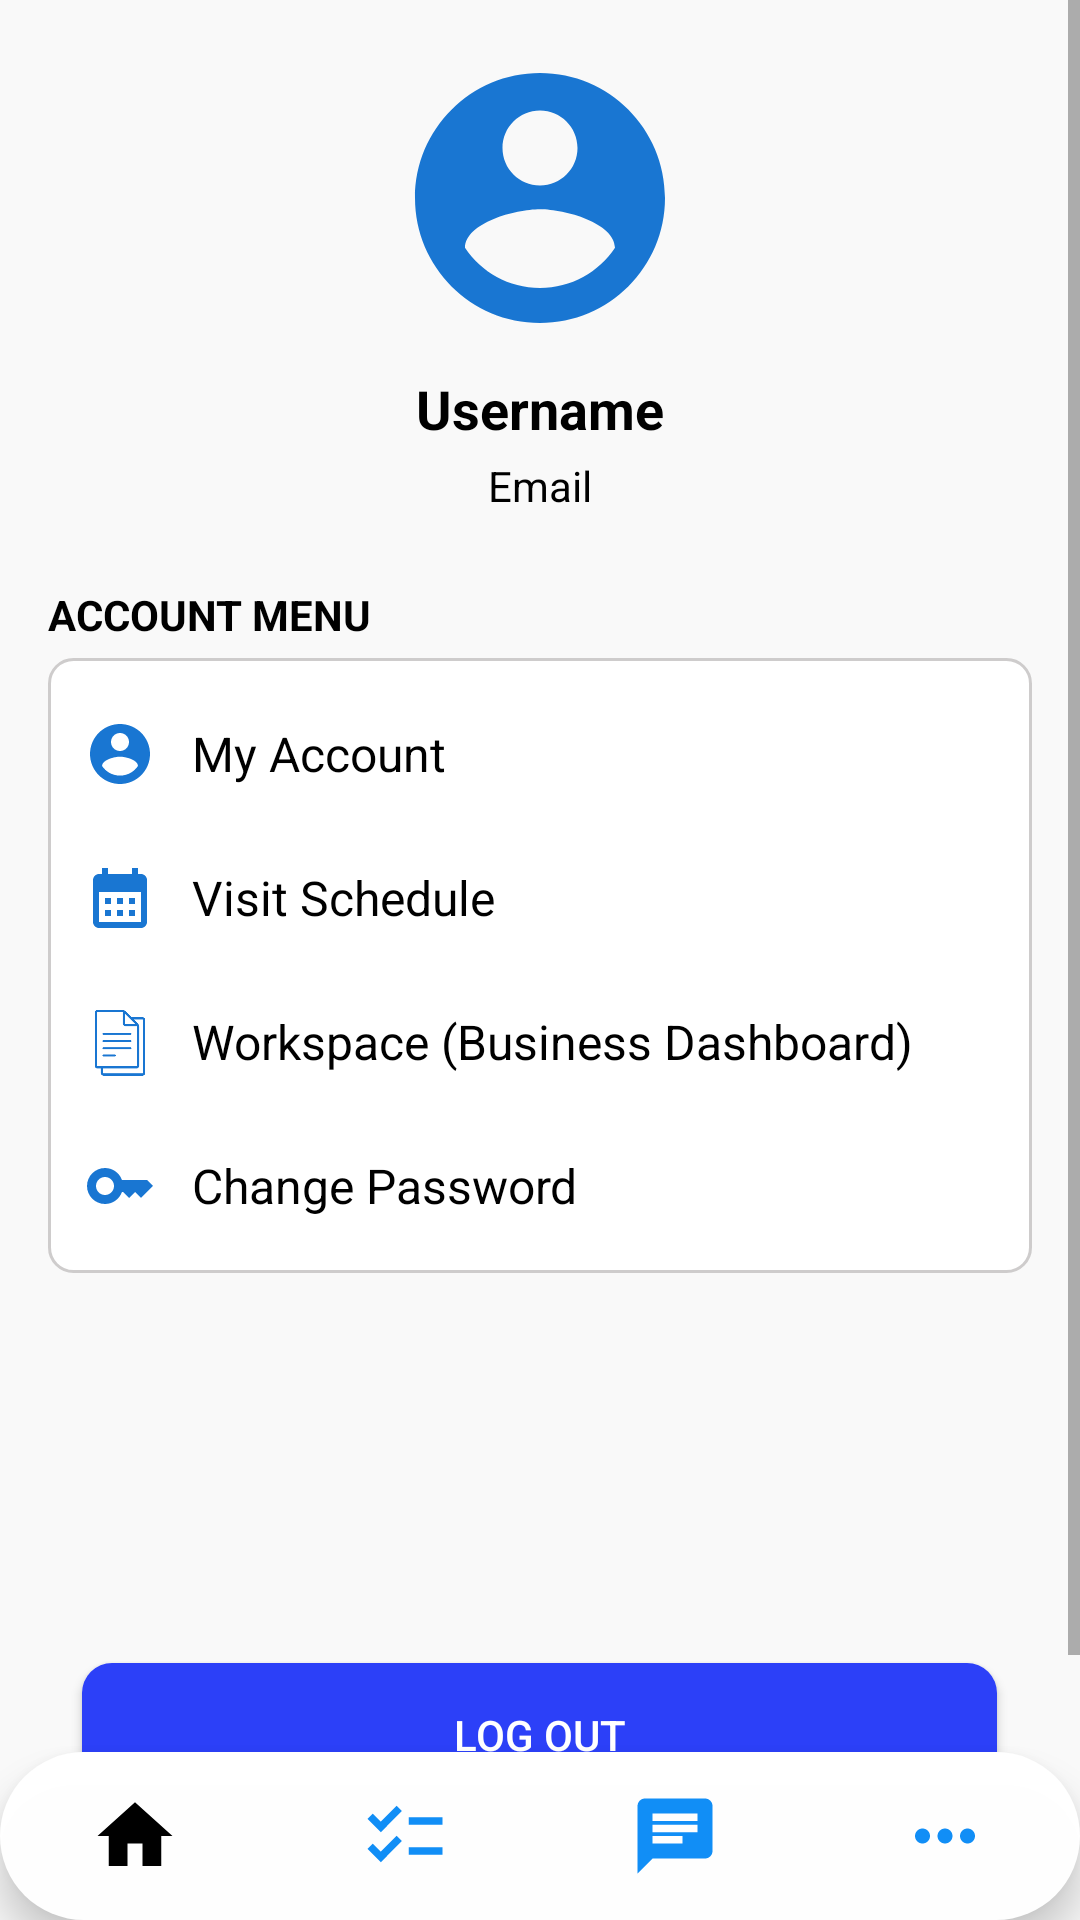

Icon bounding boxes for this 1080 × 1920 phone screenshot, format (left=x1, top=y1, right=x2, bottom=y2):
account circle: (left=90, top=724, right=150, bottom=784)
calendar month: (left=93, top=868, right=147, bottom=928)
key: (left=87, top=1168, right=153, bottom=1204)
Profile Image: (left=415, top=73, right=665, bottom=323)
